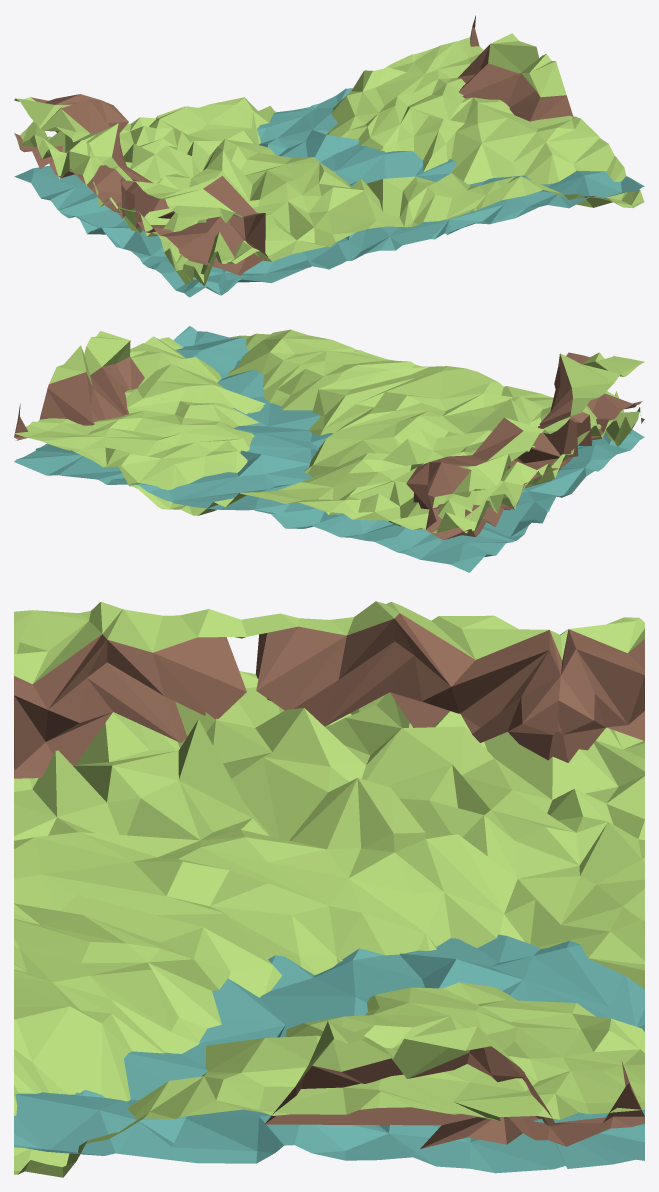
The model's file is RG_Terrain-Mesh-05.fbx.
3 renders of one model, top to bottom at view 1: azimuth 30°, elevation 25°; view 2: azimuth 150°, elevation 25°; view 3: azimuth 270°, elevation 25°, orthographic. The views are drawn at different scales.
Parts seen in each view (by area): view 1: RG_Terrain-Mesh-05; view 2: RG_Terrain-Mesh-05; view 3: RG_Terrain-Mesh-05.
Part boxes in pixels (left/top/right/bottom): RG_Terrain-Mesh-05: left=14, top=15, right=644, bottom=297; RG_Terrain-Mesh-05: left=14, top=326, right=644, bottom=572; RG_Terrain-Mesh-05: left=14, top=601, right=644, bottom=1177.
Bounding box in the file's own units: 156 × 36.96 × 104.
